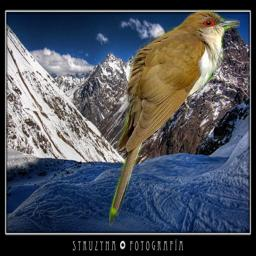Cuckoo: (109, 8, 240, 227)
